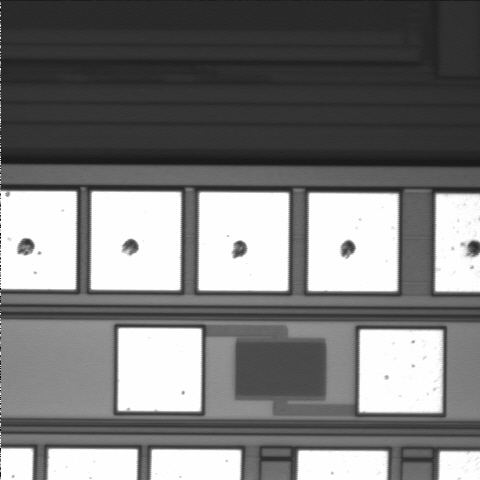pad: (199, 192, 289, 291), (91, 192, 181, 290), (308, 193, 398, 291), (359, 330, 443, 413), (118, 328, 201, 411)
